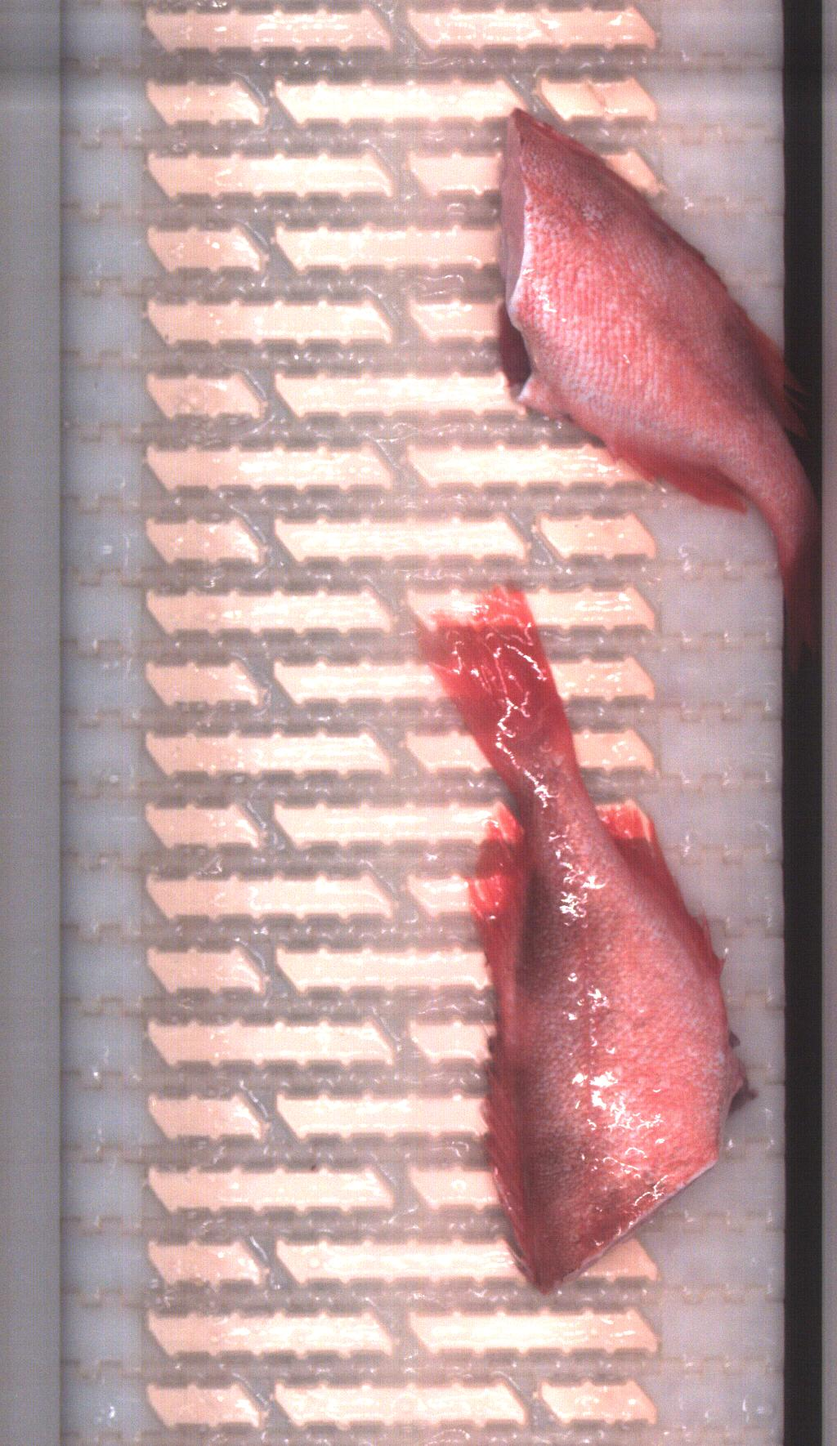Fish: (419, 588, 753, 1294), (499, 109, 819, 662)
